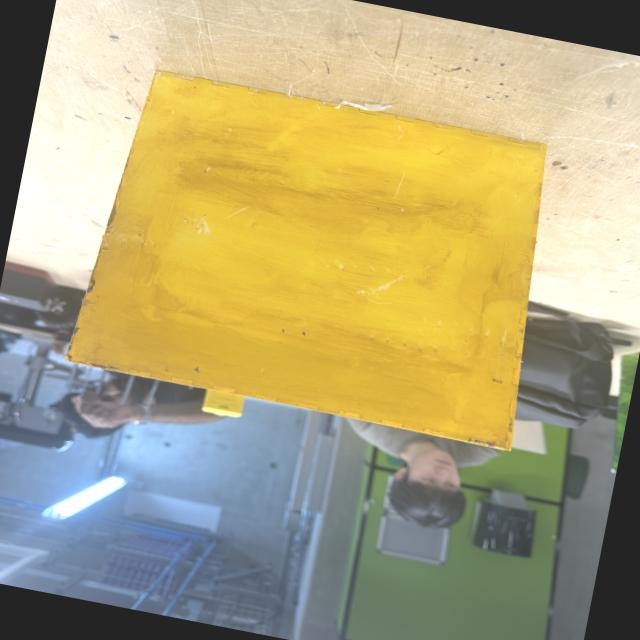yellow_bin: (64, 60, 571, 453)
